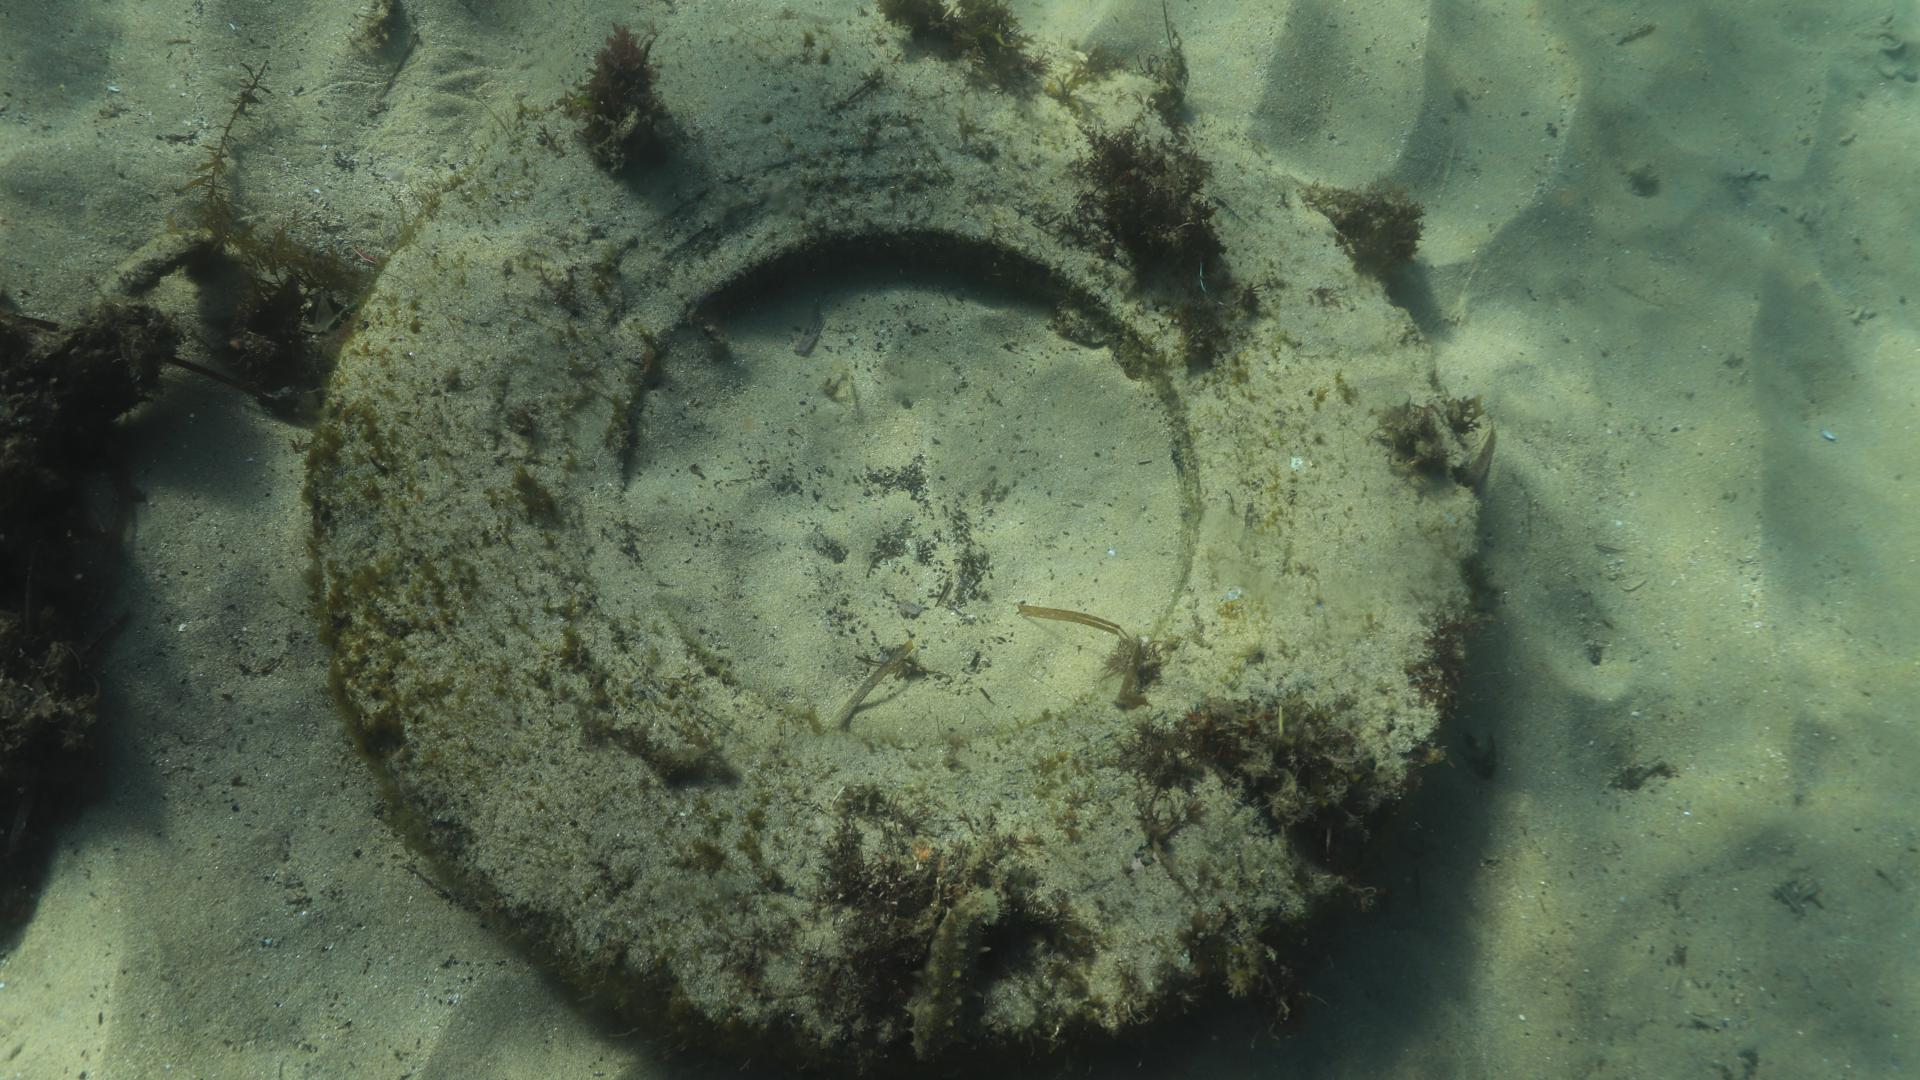tire: (311, 21, 1487, 1073)
